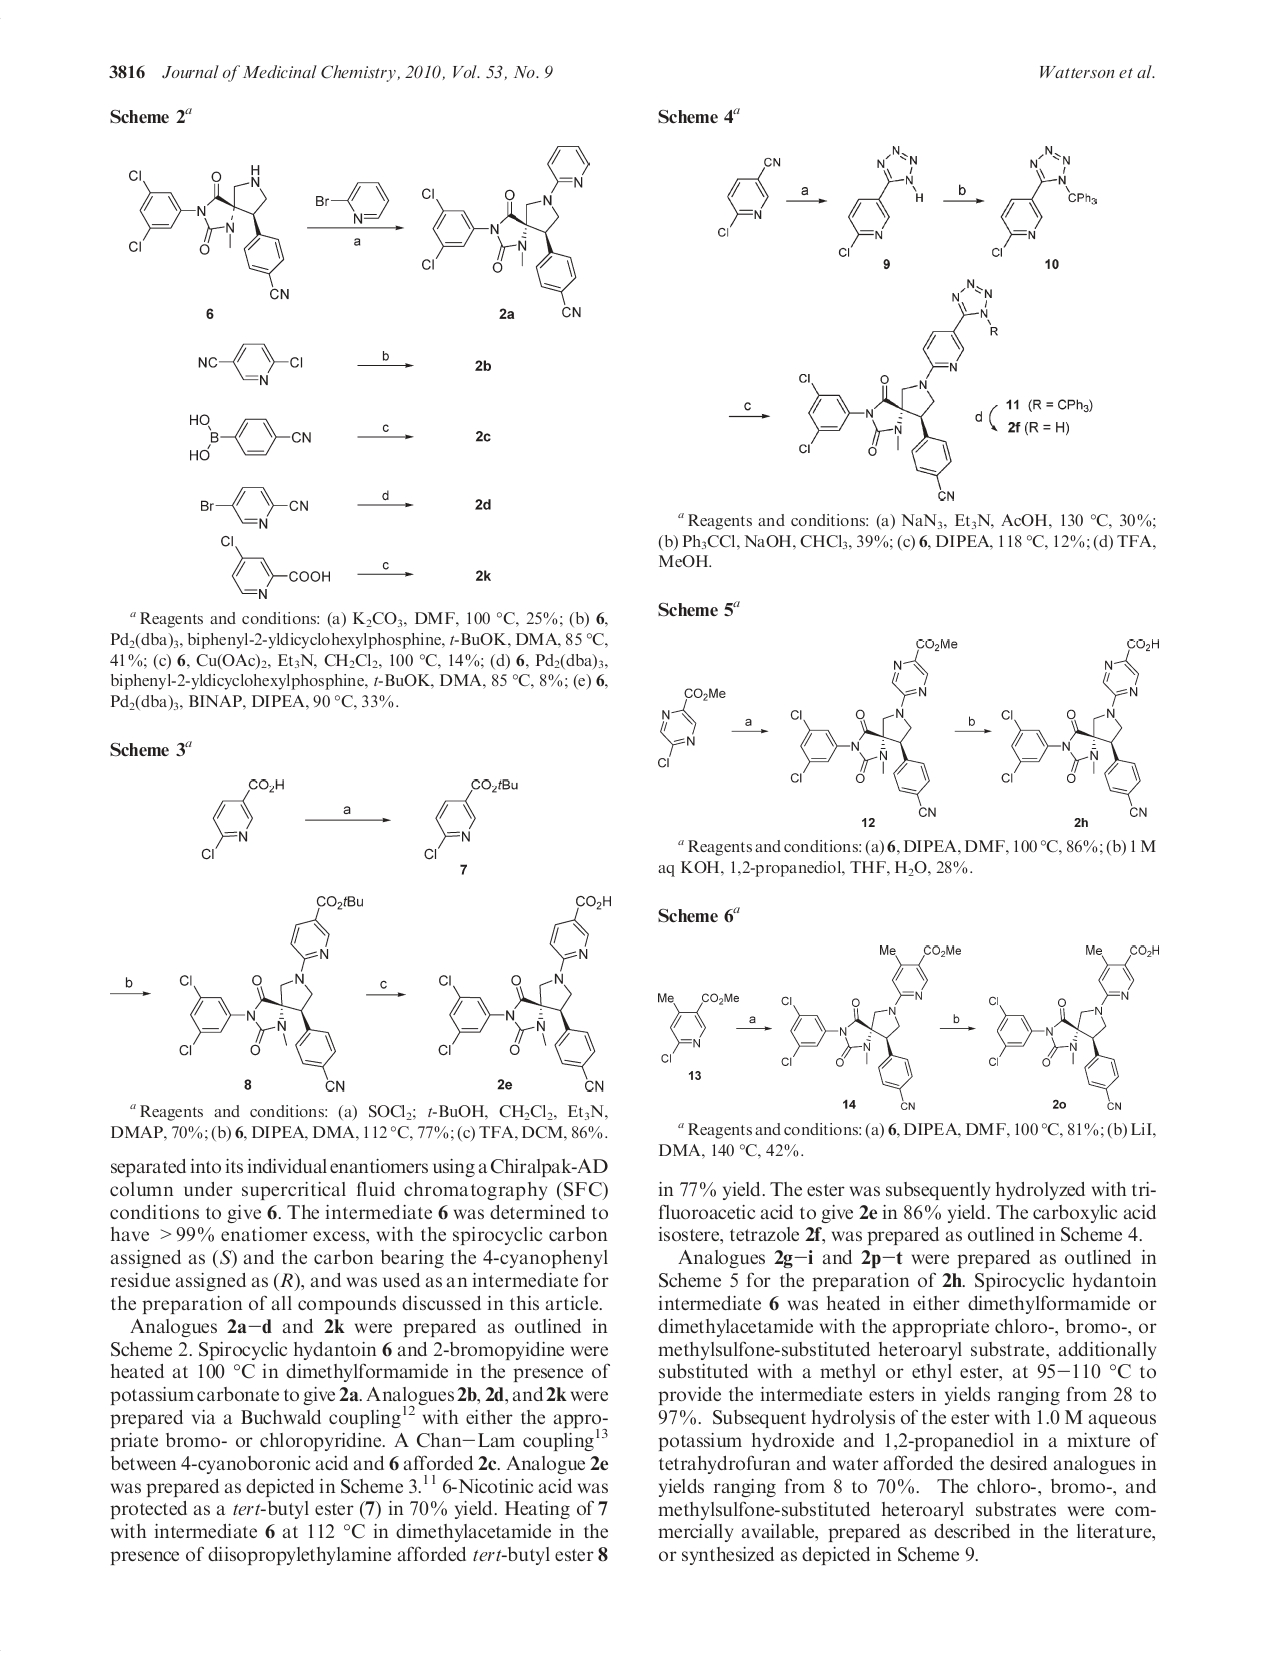exist_molecular: (797, 278, 1000, 503), (178, 891, 366, 1094), (438, 888, 614, 1093), (781, 940, 965, 1112), (789, 634, 959, 821), (420, 141, 592, 318), (987, 940, 1162, 1110), (1001, 634, 1164, 818), (125, 164, 291, 302), (992, 142, 1101, 261), (838, 142, 927, 259), (423, 778, 520, 862), (215, 531, 332, 598), (201, 777, 289, 862), (188, 410, 316, 461), (656, 987, 739, 1063), (714, 152, 785, 239), (656, 684, 727, 767), (197, 340, 306, 387), (197, 484, 309, 528), (314, 180, 392, 223)
